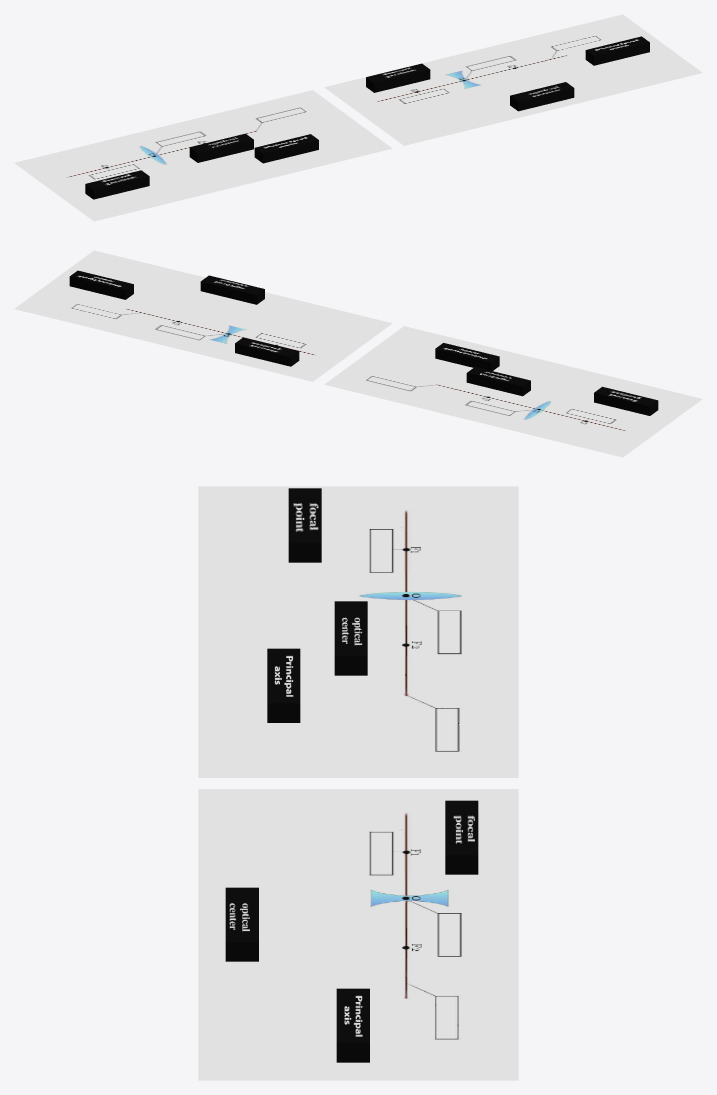
File: level15 (1).fbx
3 renders of one model, top to bottom at view 1: azimuth 30°, elevation 25°; view 2: azimuth 150°, elevation 25°; view 3: azimuth 270°, elevation 25°, orthographic. The views are drawn at different scales.
Parts seen in each view (by area): view 1: maxresdefault_image, convex_mirror_center_of_curvature, focal_point (×2), princple, optical_center, center1, princple1; view 2: convex_mirror_center_of_curvature, maxresdefault_image, focal_point (×2), center1, optical_center, princple1, princple; view 3: maxresdefault_image, convex_mirror_center_of_curvature, focal_point (×2), optical_center, princple, princple1, center1.
Part boxes in pixels (bbox=[...]): maxresdefault_image: bbox=[14, 90, 392, 221]; convex_mirror_center_of_curvature: bbox=[324, 14, 702, 145]; focal_point (×2): bbox=[85, 63, 430, 199]; princple: bbox=[254, 134, 318, 163]; optical_center: bbox=[189, 133, 253, 162]; center1: bbox=[510, 82, 574, 111]; princple1: bbox=[585, 36, 649, 65]; convex_mirror_center_of_curvature: bbox=[14, 250, 392, 381]; maxresdefault_image: bbox=[324, 326, 702, 457]; focal_point (×2): bbox=[235, 337, 658, 415]; center1: bbox=[200, 275, 264, 304]; optical_center: bbox=[466, 367, 530, 396]; princple1: bbox=[69, 270, 133, 299]; princple: bbox=[435, 343, 499, 370]; maxresdefault_image: bbox=[198, 486, 518, 777]; convex_mirror_center_of_curvature: bbox=[198, 789, 518, 1080]; focal_point (×2): bbox=[288, 488, 478, 874]; optical_center: bbox=[334, 601, 367, 675]; princple: bbox=[267, 648, 300, 722]; princple1: bbox=[336, 988, 369, 1062]; center1: bbox=[225, 887, 258, 961].
Bounding box in the file's own units: 992 × 15.71 × 226.
5 materials, 5 textured.
